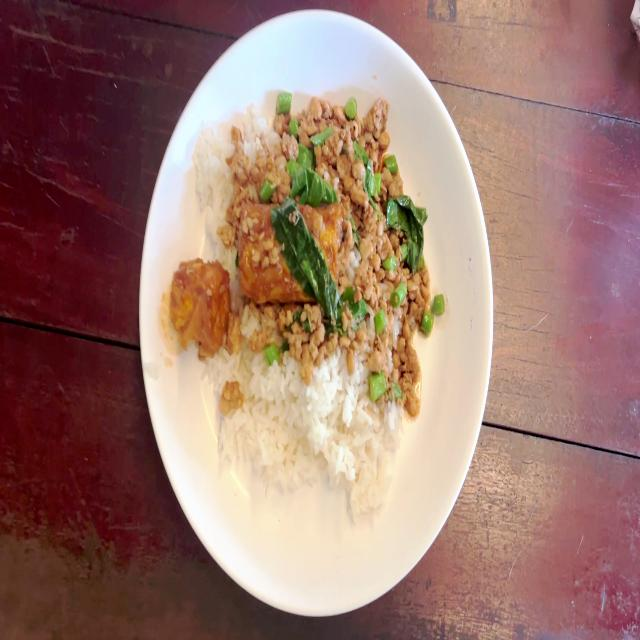fried_tofo: (240, 197, 343, 300), (165, 259, 230, 354)
minced_pork: (224, 92, 430, 200), (343, 201, 440, 419)
rice: (207, 368, 402, 512)
stir_fried_basil: (169, 93, 438, 534)
